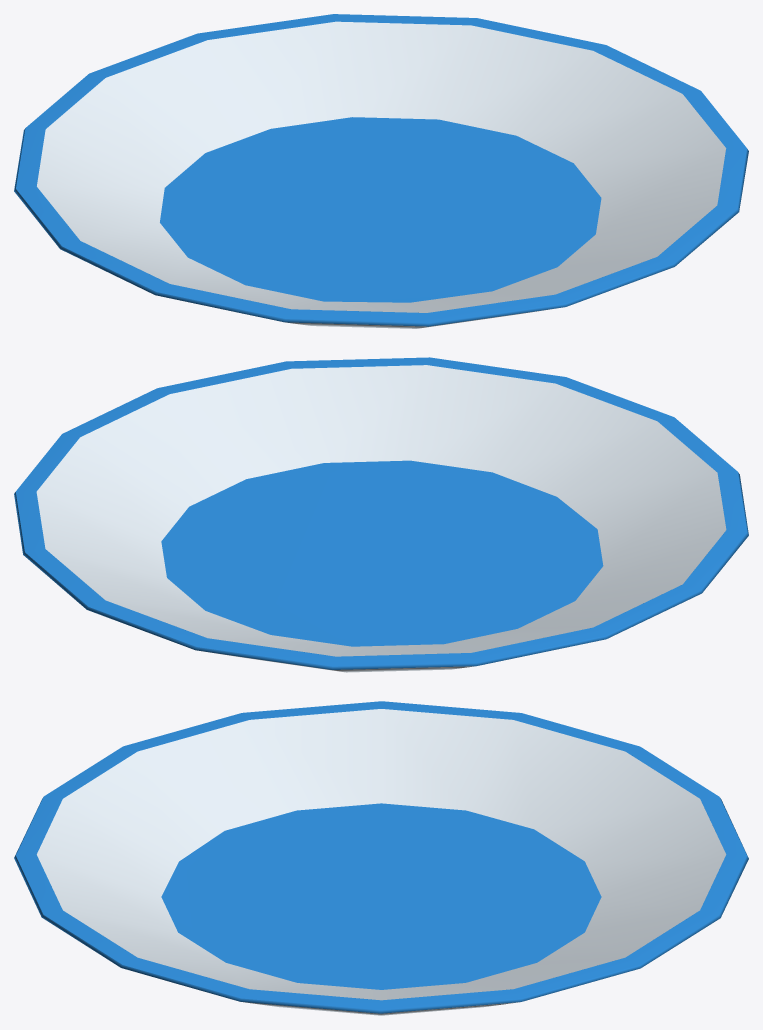
Rendered from Plato llano.fbx.
3 views of the same model, one above another, from view 1: azimuth 30°, elevation 25°; view 2: azimuth 150°, elevation 25°; view 3: azimuth 270°, elevation 25° (orthographic).
Visible parts, largest first — view 1: Object005; view 2: Object005; view 3: Object005.
Boxes of the visible parts, x1,y1,x2,y2 form: Object005: [14, 14, 748, 328]; Object005: [14, 357, 748, 672]; Object005: [14, 701, 748, 1015].
Bounding box in the file's own units: 34.41 × 2.54 × 34.41.
